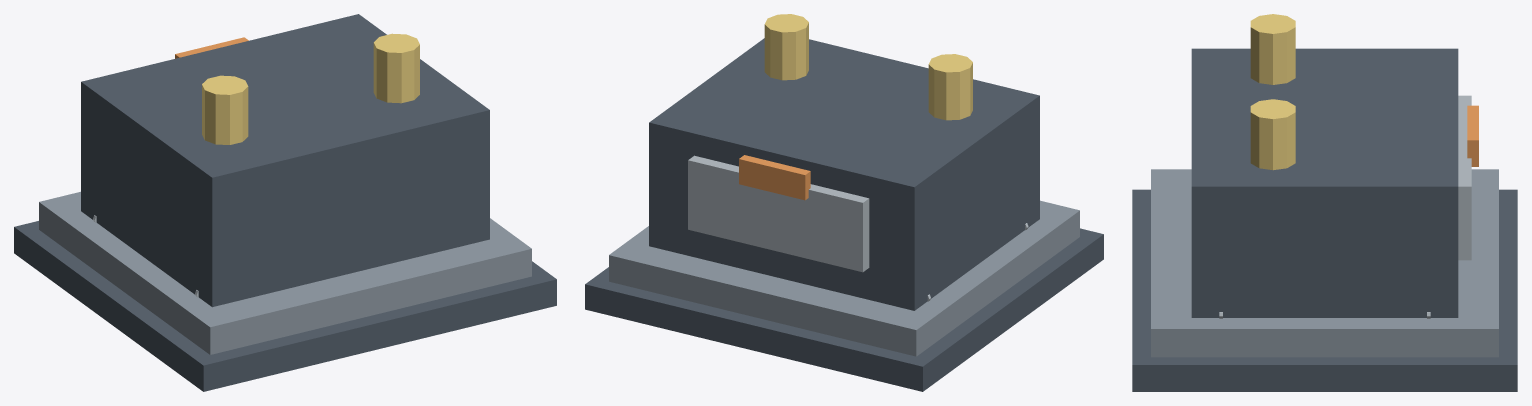
File: armory.glb
3 views of the same model, side by side, from view 1: azimuth 30°, elevation 25°; view 2: azimuth 150°, elevation 25°; view 3: azimuth 270°, elevation 25° (orthographic). The views are drawn at different scales.
Visible parts, largest first — view 1: detail_002, detail_001, detail_000, detail_005, detail_006; view 2: detail_002, detail_001, detail_000, detail_003, detail_005, detail_006, detail_004; view 3: detail_002, detail_001, detail_000, detail_005, detail_006, detail_003, detail_004.
Part boxes in pixels (x1,y1,x2,y2): detail_002: (81,14,489,307); detail_001: (39,191,531,354); detail_000: (14,221,556,391); detail_005: (202,75,248,144); detail_006: (373,33,419,103); detail_002: (649,38,1039,310); detail_001: (609,200,1079,356); detail_000: (585,228,1103,391); detail_003: (688,155,869,272); detail_005: (928,54,972,120); detail_006: (764,14,808,80); detail_004: (739,155,810,200); detail_002: (1191,48,1458,317); detail_001: (1151,169,1498,357); detail_000: (1132,189,1517,391); detail_005: (1250,14,1295,84); detail_006: (1250,99,1295,170); detail_003: (1458,95,1471,260); detail_004: (1467,105,1478,166).
Size of the model in its own units: 2.8 by 1.77 by 2.6.
